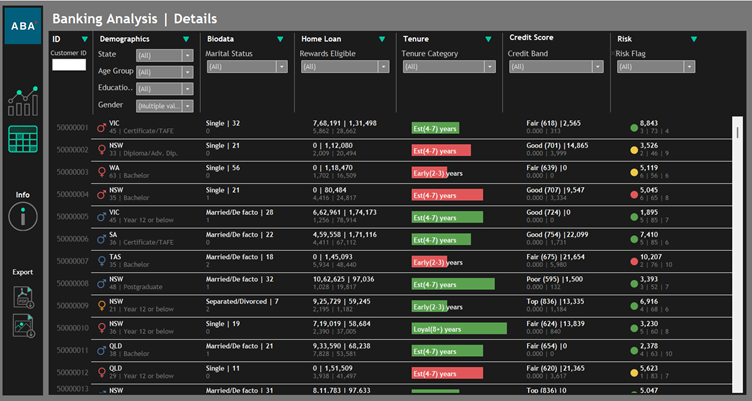

The dashboard page shown, as its layout file describes it:
{"tool":"tableau","page":{"name":"Banking | Details","canvas":[1400,800],"ordinal":0},"visuals":[{"type":"image","param":"Image/Dashboard Logo.jpg","box":[10,10,80,80]},{"type":"text","box":[101,11,715,49]},{"type":"text","box":[101,60,61,32]},{"type":"dashboard-object","box":[162,60,20,32]},{"type":"blank","box":[182,60,13,165]},{"type":"text","box":[195,60,167,32]},{"type":"dashboard-object","box":[362,60,20,32]},{"type":"blank","box":[394,60,13,165]},{"type":"text","box":[407,60,141,32]},{"type":"dashboard-object","box":[548,60,20,32]},{"type":"blank","box":[580,60,13,165]},{"type":"text","box":[593,60,156,32]},{"type":"dashboard-object","box":[749,60,20,32]},{"type":"blank","box":[781,60,13,165]},{"type":"text","box":[794,60,165,32]},{"type":"dashboard-object","box":[959,60,20,32]},{"type":"blank","box":[991,60,13,165]},{"type":"text","box":[1004,60,200,26]},{"type":"blank","box":[1204,60,13,165]},{"type":"text","box":[1217,60,148,32]},{"type":"dashboard-object","box":[1364.9,60,20,32]},{"type":"blank","box":[10,90,80,60]},{"type":"filter","title":"Details","param":"[federated.1jprkj914pp6g513rwwgj11i5ipw].[none:CustomerId:ok]","box":[101,92,81,50]},{"type":"filter","title":"Details","param":"[federated.1jprkj914pp6g513rwwgj11i5ipw].[none:State:nk]","box":[195,92,199,33.2]},{"type":"filter","title":"Details","param":"[federated.1jprkj914pp6g513rwwgj11i5ipw].[none:Marital Status:nk]","box":[407,92,173,58]},{"type":"filter","title":"Details","param":"[federated.1jprkj914pp6g513rwwgj11i5ipw].[none:Calculation_886364761072611329:nk","box":[593,92,188,58]},{"type":"filter","title":"Details","param":"[federated.1jprkj914pp6g513rwwgj11i5ipw].[none:Calculation_729864671812087808:nk","box":[794,92,197,58]},{"type":"filter","title":"Details","param":"[federated.1jprkj914pp6g513rwwgj11i5ipw].[none:Calculation_729864671819362306:nk","box":[1004,92,200,58]},{"type":"dashboard-object","box":[1204,92,24,24]},{"type":"filter","title":"Details","param":"[federated.1jprkj914pp6g513rwwgj11i5ipw].[none:Calculation_360006554311012355:nk","box":[1217,92,168,58]},{"type":"filter","title":"Details","param":"[federated.1jprkj914pp6g513rwwgj11i5ipw].[none:Calculation_729864671821111303:nk","box":[195,125.2,199,33.2]},{"type":"filter","title":"Details","param":"[federated.1jprkj914pp6g513rwwgj11i5ipw].[none:Education Level:nk]","box":[195,158.5,199,33.2]},{"type":"dashboard-object","box":[21,161,58,75]},{"type":"filter","title":"Details","param":"[federated.1jprkj914pp6g513rwwgj11i5ipw].[none:Gender:nk]","box":[195,191.7,199,33.3]},{"type":"dashboard-object","box":[21,236,58,75]},{"type":"blank","box":[21,311,58,60]},{"type":"text","box":[21,371,58,26]},{"type":"dashboard-object","box":[21,397,58,58]},{"type":"blank","box":[21,455,58,60]},{"type":"text","box":[21,515,58,44]},{"type":"dashboard-object","box":[21,559,58,54]},{"type":"dashboard-object","box":[21,613,58,58]}]}

Visuals, with their boxes on the page's 1400x800 design canvas (x1, y1, x2, y2). These are canvas units, not pixel positions in the 752x401 screenshot, which may show the page scaled, cropped or inside an application window:
image: x1=10 y1=10 x2=90 y2=90
text: x1=101 y1=11 x2=816 y2=60
text: x1=101 y1=60 x2=162 y2=92
dashboard-object: x1=162 y1=60 x2=182 y2=92
blank: x1=182 y1=60 x2=195 y2=225
text: x1=195 y1=60 x2=362 y2=92
dashboard-object: x1=362 y1=60 x2=382 y2=92
blank: x1=394 y1=60 x2=407 y2=225
text: x1=407 y1=60 x2=548 y2=92
dashboard-object: x1=548 y1=60 x2=568 y2=92
blank: x1=580 y1=60 x2=593 y2=225
text: x1=593 y1=60 x2=749 y2=92
dashboard-object: x1=749 y1=60 x2=769 y2=92
blank: x1=781 y1=60 x2=794 y2=225
text: x1=794 y1=60 x2=959 y2=92
dashboard-object: x1=959 y1=60 x2=979 y2=92
blank: x1=991 y1=60 x2=1004 y2=225
text: x1=1004 y1=60 x2=1204 y2=86
blank: x1=1204 y1=60 x2=1217 y2=225
text: x1=1217 y1=60 x2=1365 y2=92
dashboard-object: x1=1365 y1=60 x2=1385 y2=92
blank: x1=10 y1=90 x2=90 y2=150
"Details" filter: x1=101 y1=92 x2=182 y2=142
"Details" filter: x1=195 y1=92 x2=394 y2=125
"Details" filter: x1=407 y1=92 x2=580 y2=150
"Details" filter: x1=593 y1=92 x2=781 y2=150
"Details" filter: x1=794 y1=92 x2=991 y2=150
"Details" filter: x1=1004 y1=92 x2=1204 y2=150
dashboard-object: x1=1204 y1=92 x2=1228 y2=116
"Details" filter: x1=1217 y1=92 x2=1385 y2=150
"Details" filter: x1=195 y1=125 x2=394 y2=158
"Details" filter: x1=195 y1=158 x2=394 y2=192
dashboard-object: x1=21 y1=161 x2=79 y2=236
"Details" filter: x1=195 y1=192 x2=394 y2=225
dashboard-object: x1=21 y1=236 x2=79 y2=311
blank: x1=21 y1=311 x2=79 y2=371
text: x1=21 y1=371 x2=79 y2=397
dashboard-object: x1=21 y1=397 x2=79 y2=455
blank: x1=21 y1=455 x2=79 y2=515
text: x1=21 y1=515 x2=79 y2=559
dashboard-object: x1=21 y1=559 x2=79 y2=613
dashboard-object: x1=21 y1=613 x2=79 y2=671
